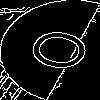O: (25, 25, 100, 79)
